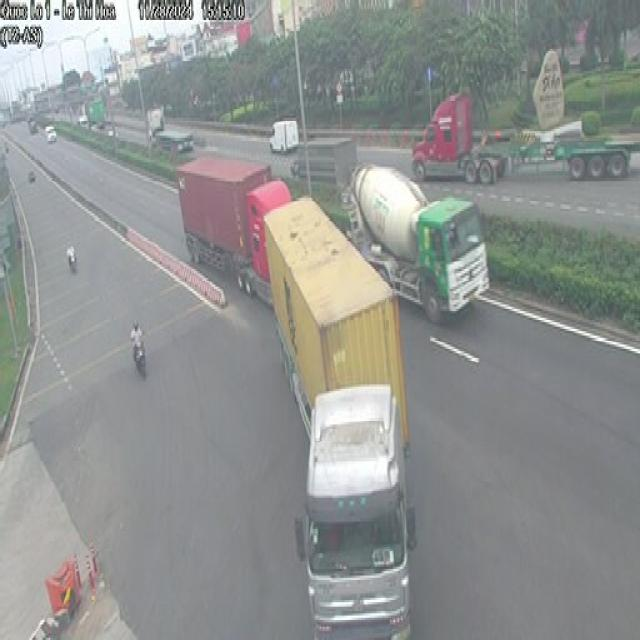container-truck: (267, 196, 427, 640), (411, 80, 640, 193), (175, 148, 302, 286)
